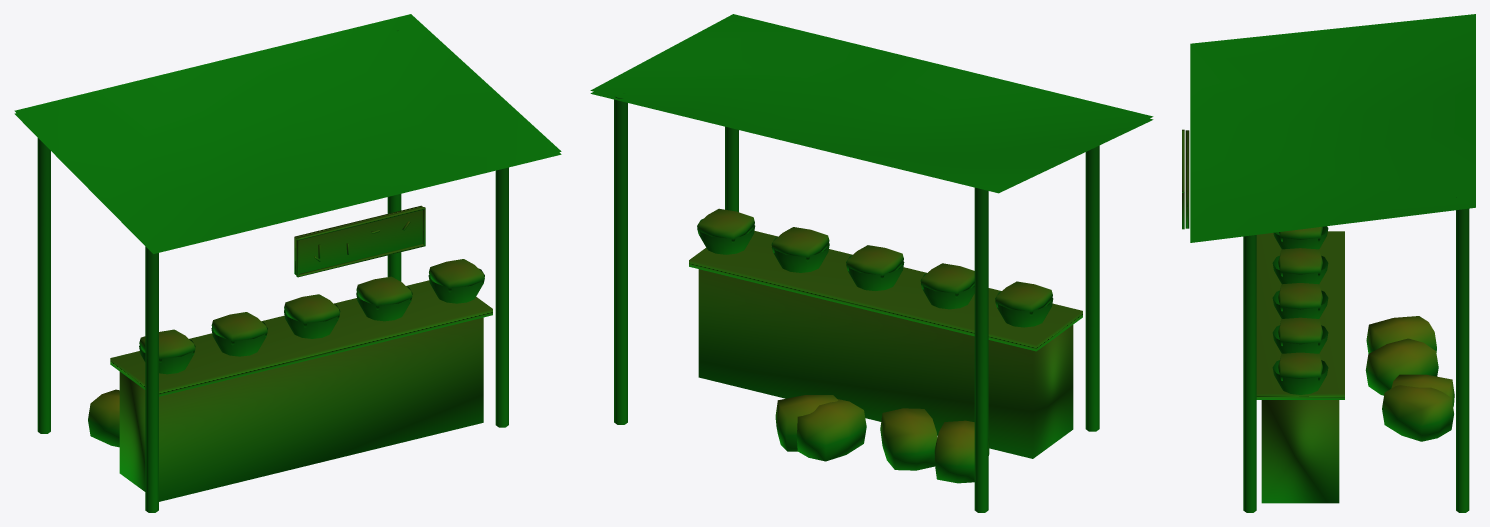
The model's file is market_stall.glb.
3 renders of one model, left to right at view 1: azimuth 30°, elevation 25°; view 2: azimuth 150°, elevation 25°; view 3: azimuth 270°, elevation 25°, orthographic. The views are drawn at different scales.
Visible parts, largest first — view 1: market_stall; view 2: market_stall; view 3: market_stall.
Part boxes in pixels (x1,y1,x2,y2): market_stall: (14, 14, 561, 512); market_stall: (590, 14, 1153, 512); market_stall: (1182, 14, 1475, 512).
Size of what is drawn, in the model's own units: 3.5 by 2.63 by 2.21.
